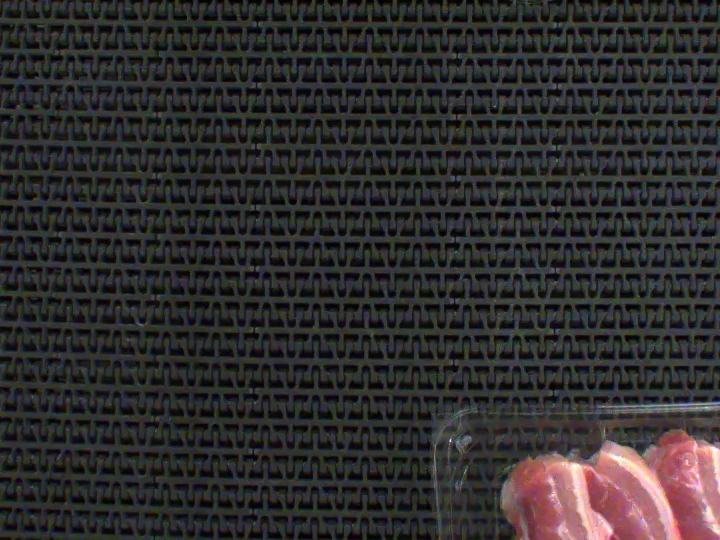packaging-error: (591, 413, 613, 444)
